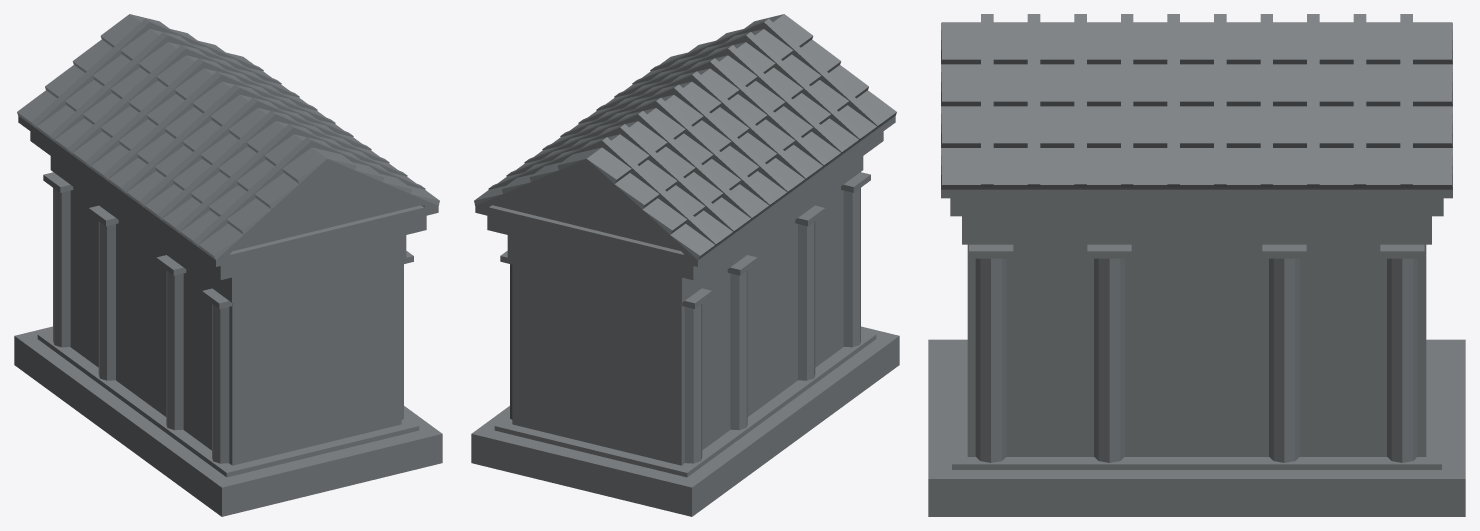
Rendered from Cercueil_Collones.FBX.
3 views of the same model, side by side, from view 1: azimuth 30°, elevation 25°; view 2: azimuth 150°, elevation 25°; view 3: azimuth 270°, elevation 25° (orthographic). The views are drawn at different scales.
Visible parts, largest first — view 1: Plane005; view 2: Plane005; view 3: Plane005.
Boxes of the visible parts, x1=… form: Plane005: x1=14, y1=14, x2=442, y2=516; Plane005: x1=471, y1=14, x2=899, y2=516; Plane005: x1=928, y1=14, x2=1465, y2=516.
Size of the model in its own units: 156 by 219 by 246.
Materials: 1 (1 with a texture image).
